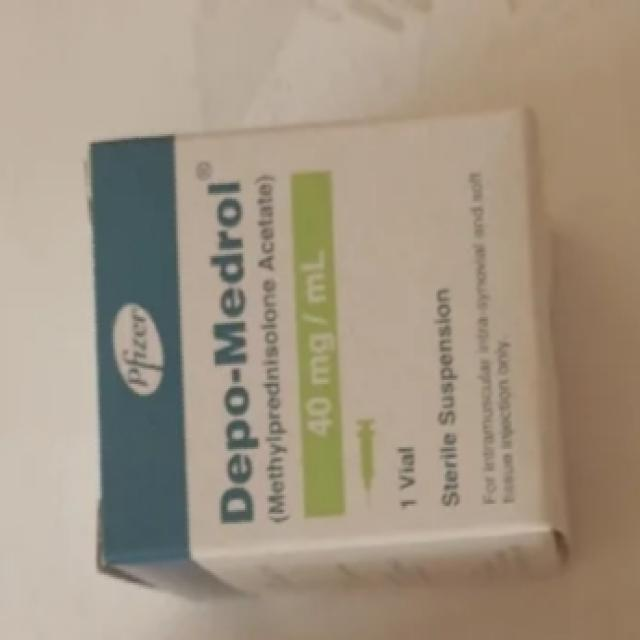drug-name: (202, 180, 258, 530)
